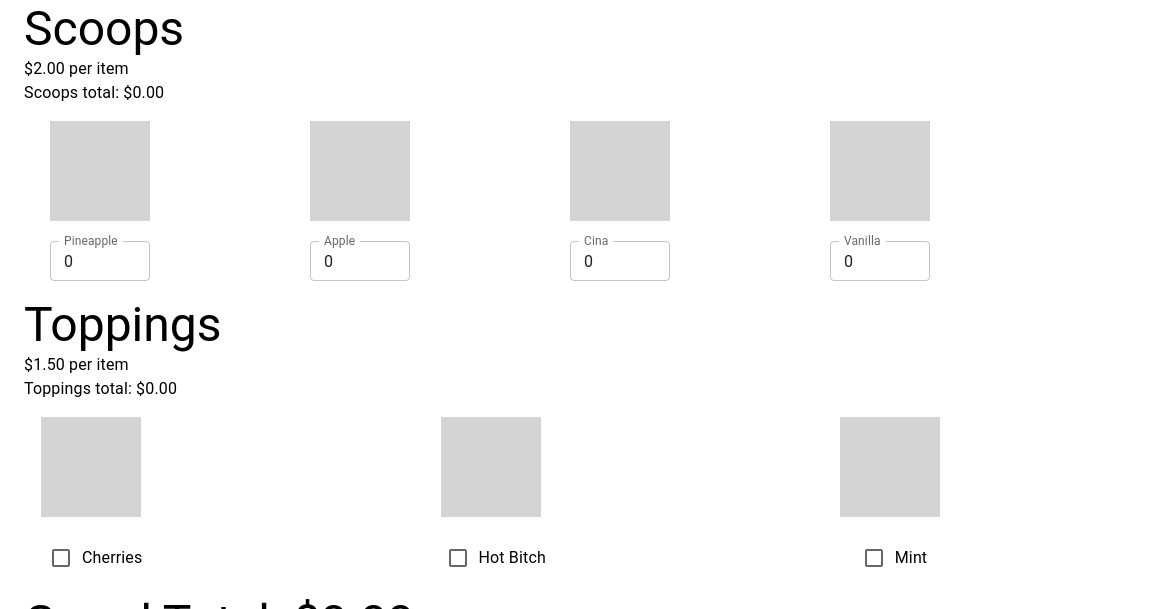
happy order › should not render toppings if there are no toppings in summary
Replace the text in the number field with test id "Vanilla" with "6" at coordinates (880, 261), box [830, 241, 930, 281]
(page scrolled)
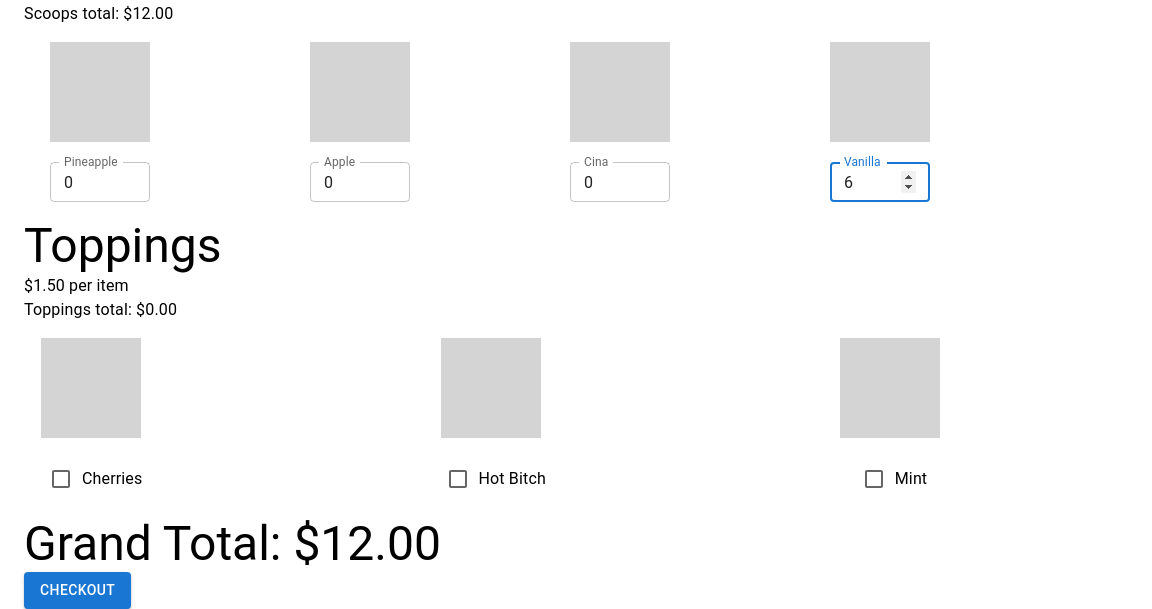
Click the button "Checkout" at coordinates (78, 590), box [24, 572, 131, 608]
(page scrolled)
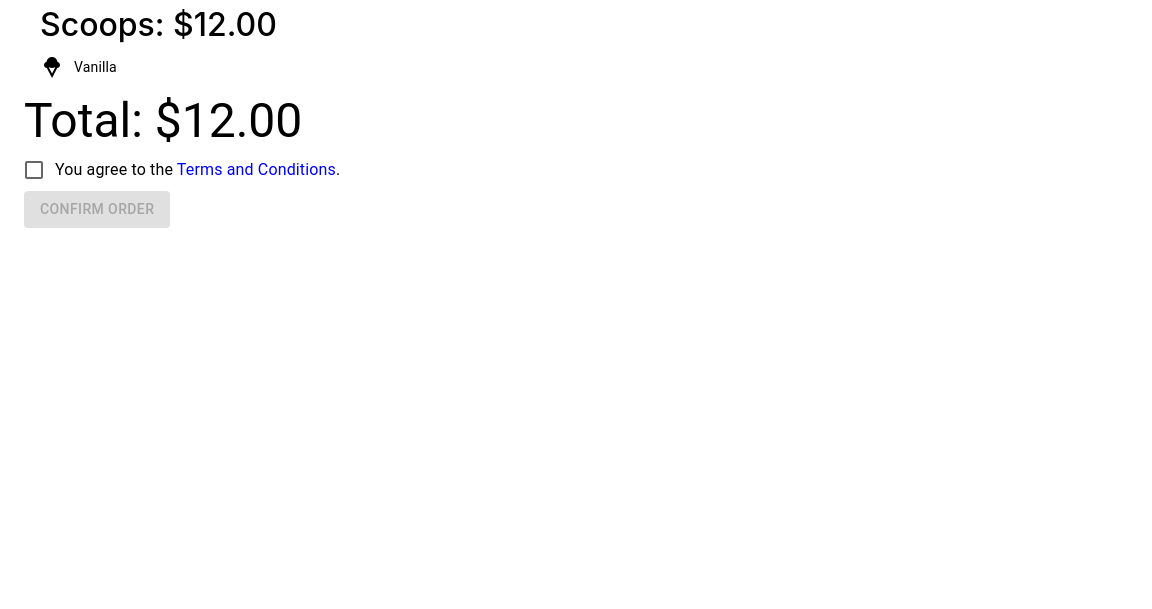
Now the heading "Toppings" is gone
